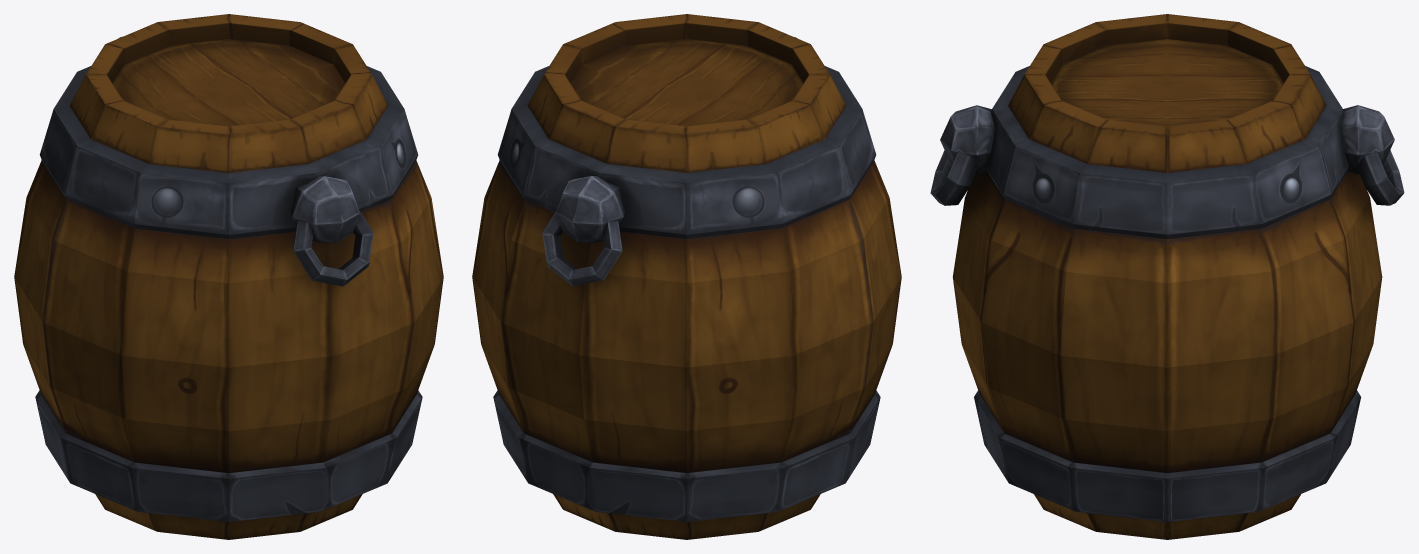
File: barril.gltf
3 views of the same model, side by side, from view 1: azimuth 30°, elevation 25°; view 2: azimuth 150°, elevation 25°; view 3: azimuth 270°, elevation 25° (orthographic).
Parts seen in each view (by area): view 1: BarrelPro; view 2: BarrelPro; view 3: BarrelPro.
Boxes of the visible parts, x1,y1,x2,y2 form: BarrelPro: (14, 14, 443, 539); BarrelPro: (472, 14, 901, 539); BarrelPro: (930, 14, 1404, 539).
Size of the model in its own units: 2 by 2.08 by 2.21.
Materials: 1 (1 with a texture image).
